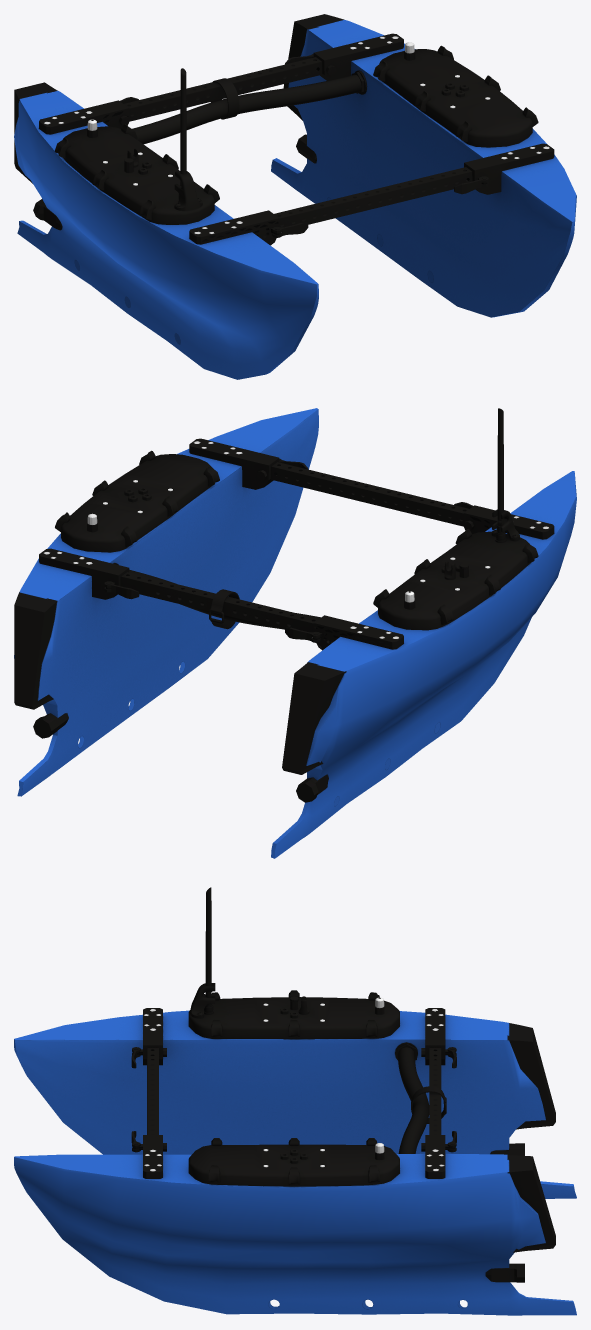
The model's file is blueboat_chassis_visual.glb.
3 views of the same model, one above another, from view 1: azimuth 30°, elevation 25°; view 2: azimuth 150°, elevation 25°; view 3: azimuth 270°, elevation 25° (orthographic). The views are drawn at different scales.
Visible parts, largest first — view 1: blueboat_chassis.visual; view 2: blueboat_chassis.visual; view 3: blueboat_chassis.visual.
Part boxes in pixels (<box>): blueboat_chassis.visual: <box>14,14,576,379</box>; blueboat_chassis.visual: <box>14,408,576,858</box>; blueboat_chassis.visual: <box>14,887,576,1315</box>.
Size of the model in its own units: 0.9247 by 0.6918 by 1.19.
1 material, 1 textured.
